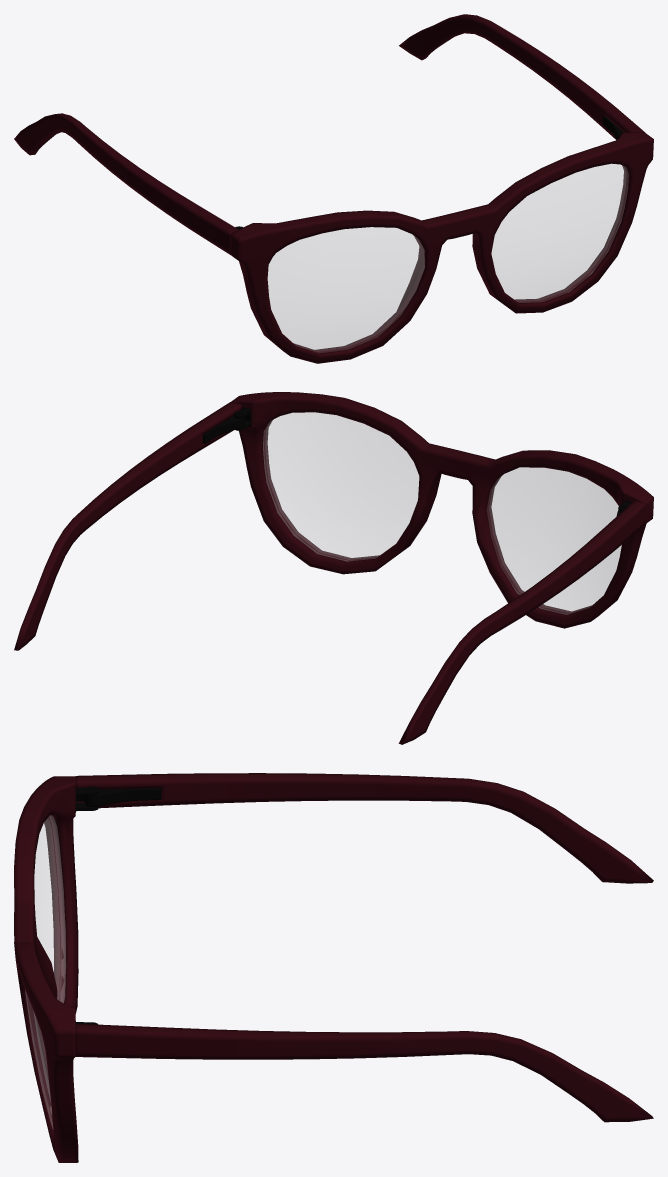
File: glasses-vv-2.dae
The picture shows the model from 3 angles, top to bottom: view 1: azimuth 30°, elevation 25°; view 2: azimuth 150°, elevation 25°; view 3: azimuth 270°, elevation 25°; orthographic projection. The views are drawn at different scales.
Visible parts, largest first — view 1: GLASSES_2; view 2: GLASSES_2; view 3: GLASSES_2.
Part boxes in pixels (left/top/right/bottom): GLASSES_2: left=14, top=14, right=653, bottom=363; GLASSES_2: left=14, top=392, right=653, bottom=744; GLASSES_2: left=14, top=773, right=653, bottom=1162.
Bounding box in the file's own units: 0.1389 × 0.0482 × 0.1422.
